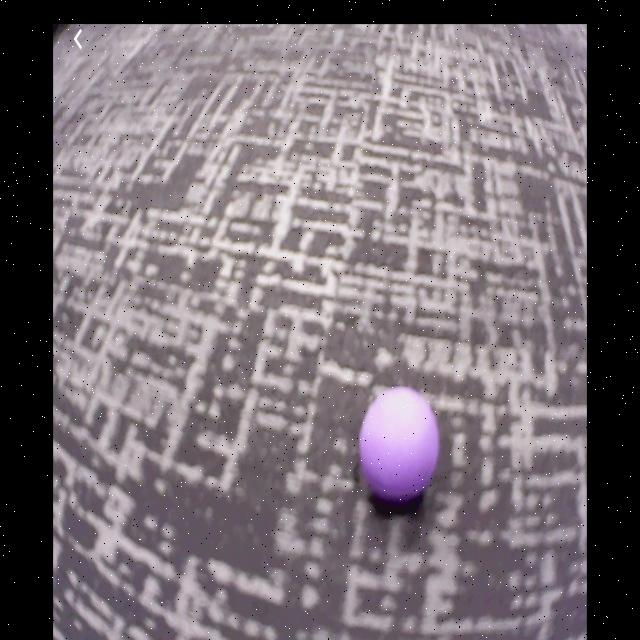ball: (359, 388, 438, 502)
